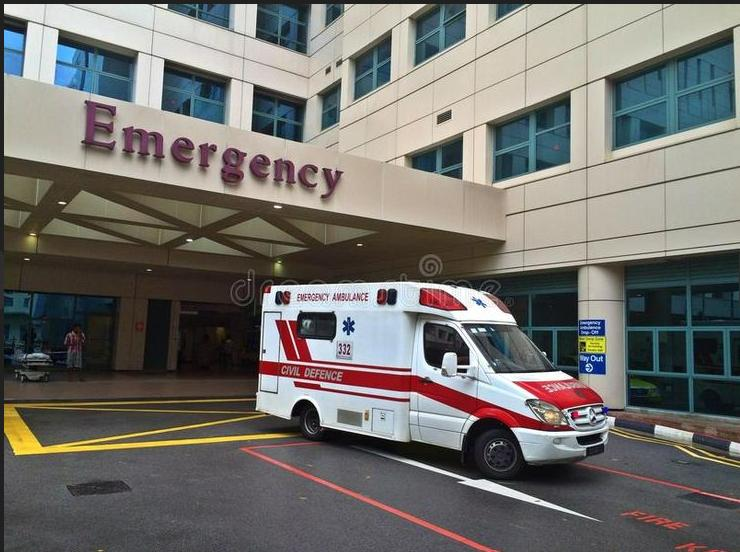ambulance_off: (256, 282, 609, 480)
